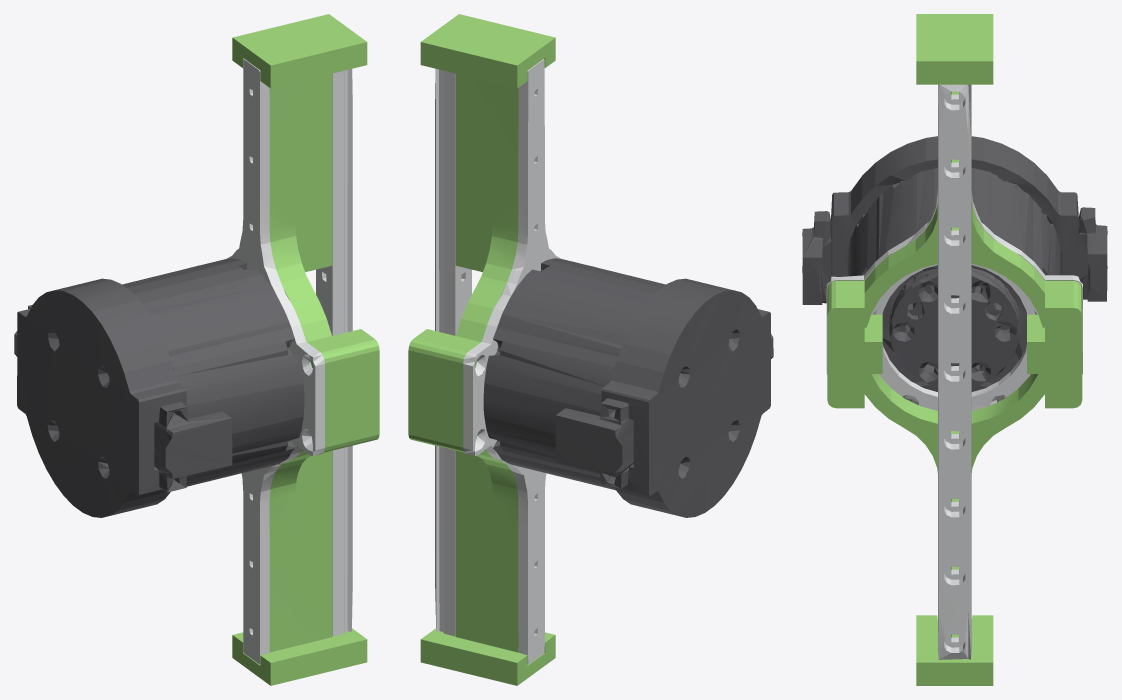
Rendered from gripper_end_visual.glb.
The picture shows the model from 3 angles, left to right: view 1: azimuth 30°, elevation 25°; view 2: azimuth 150°, elevation 25°; view 3: azimuth 270°, elevation 25°; orthographic projection.
Visible parts, largest first — view 1: gripper_end_visual; view 2: gripper_end_visual; view 3: gripper_end_visual.
Boxes of the visible parts, bbox=[...] form: gripper_end_visual: bbox=[14, 14, 379, 685]; gripper_end_visual: bbox=[408, 14, 773, 685]; gripper_end_visual: bbox=[802, 14, 1107, 685].
Bounding box in the file's own units: 0.0839 × 0.1841 × 0.0815.
